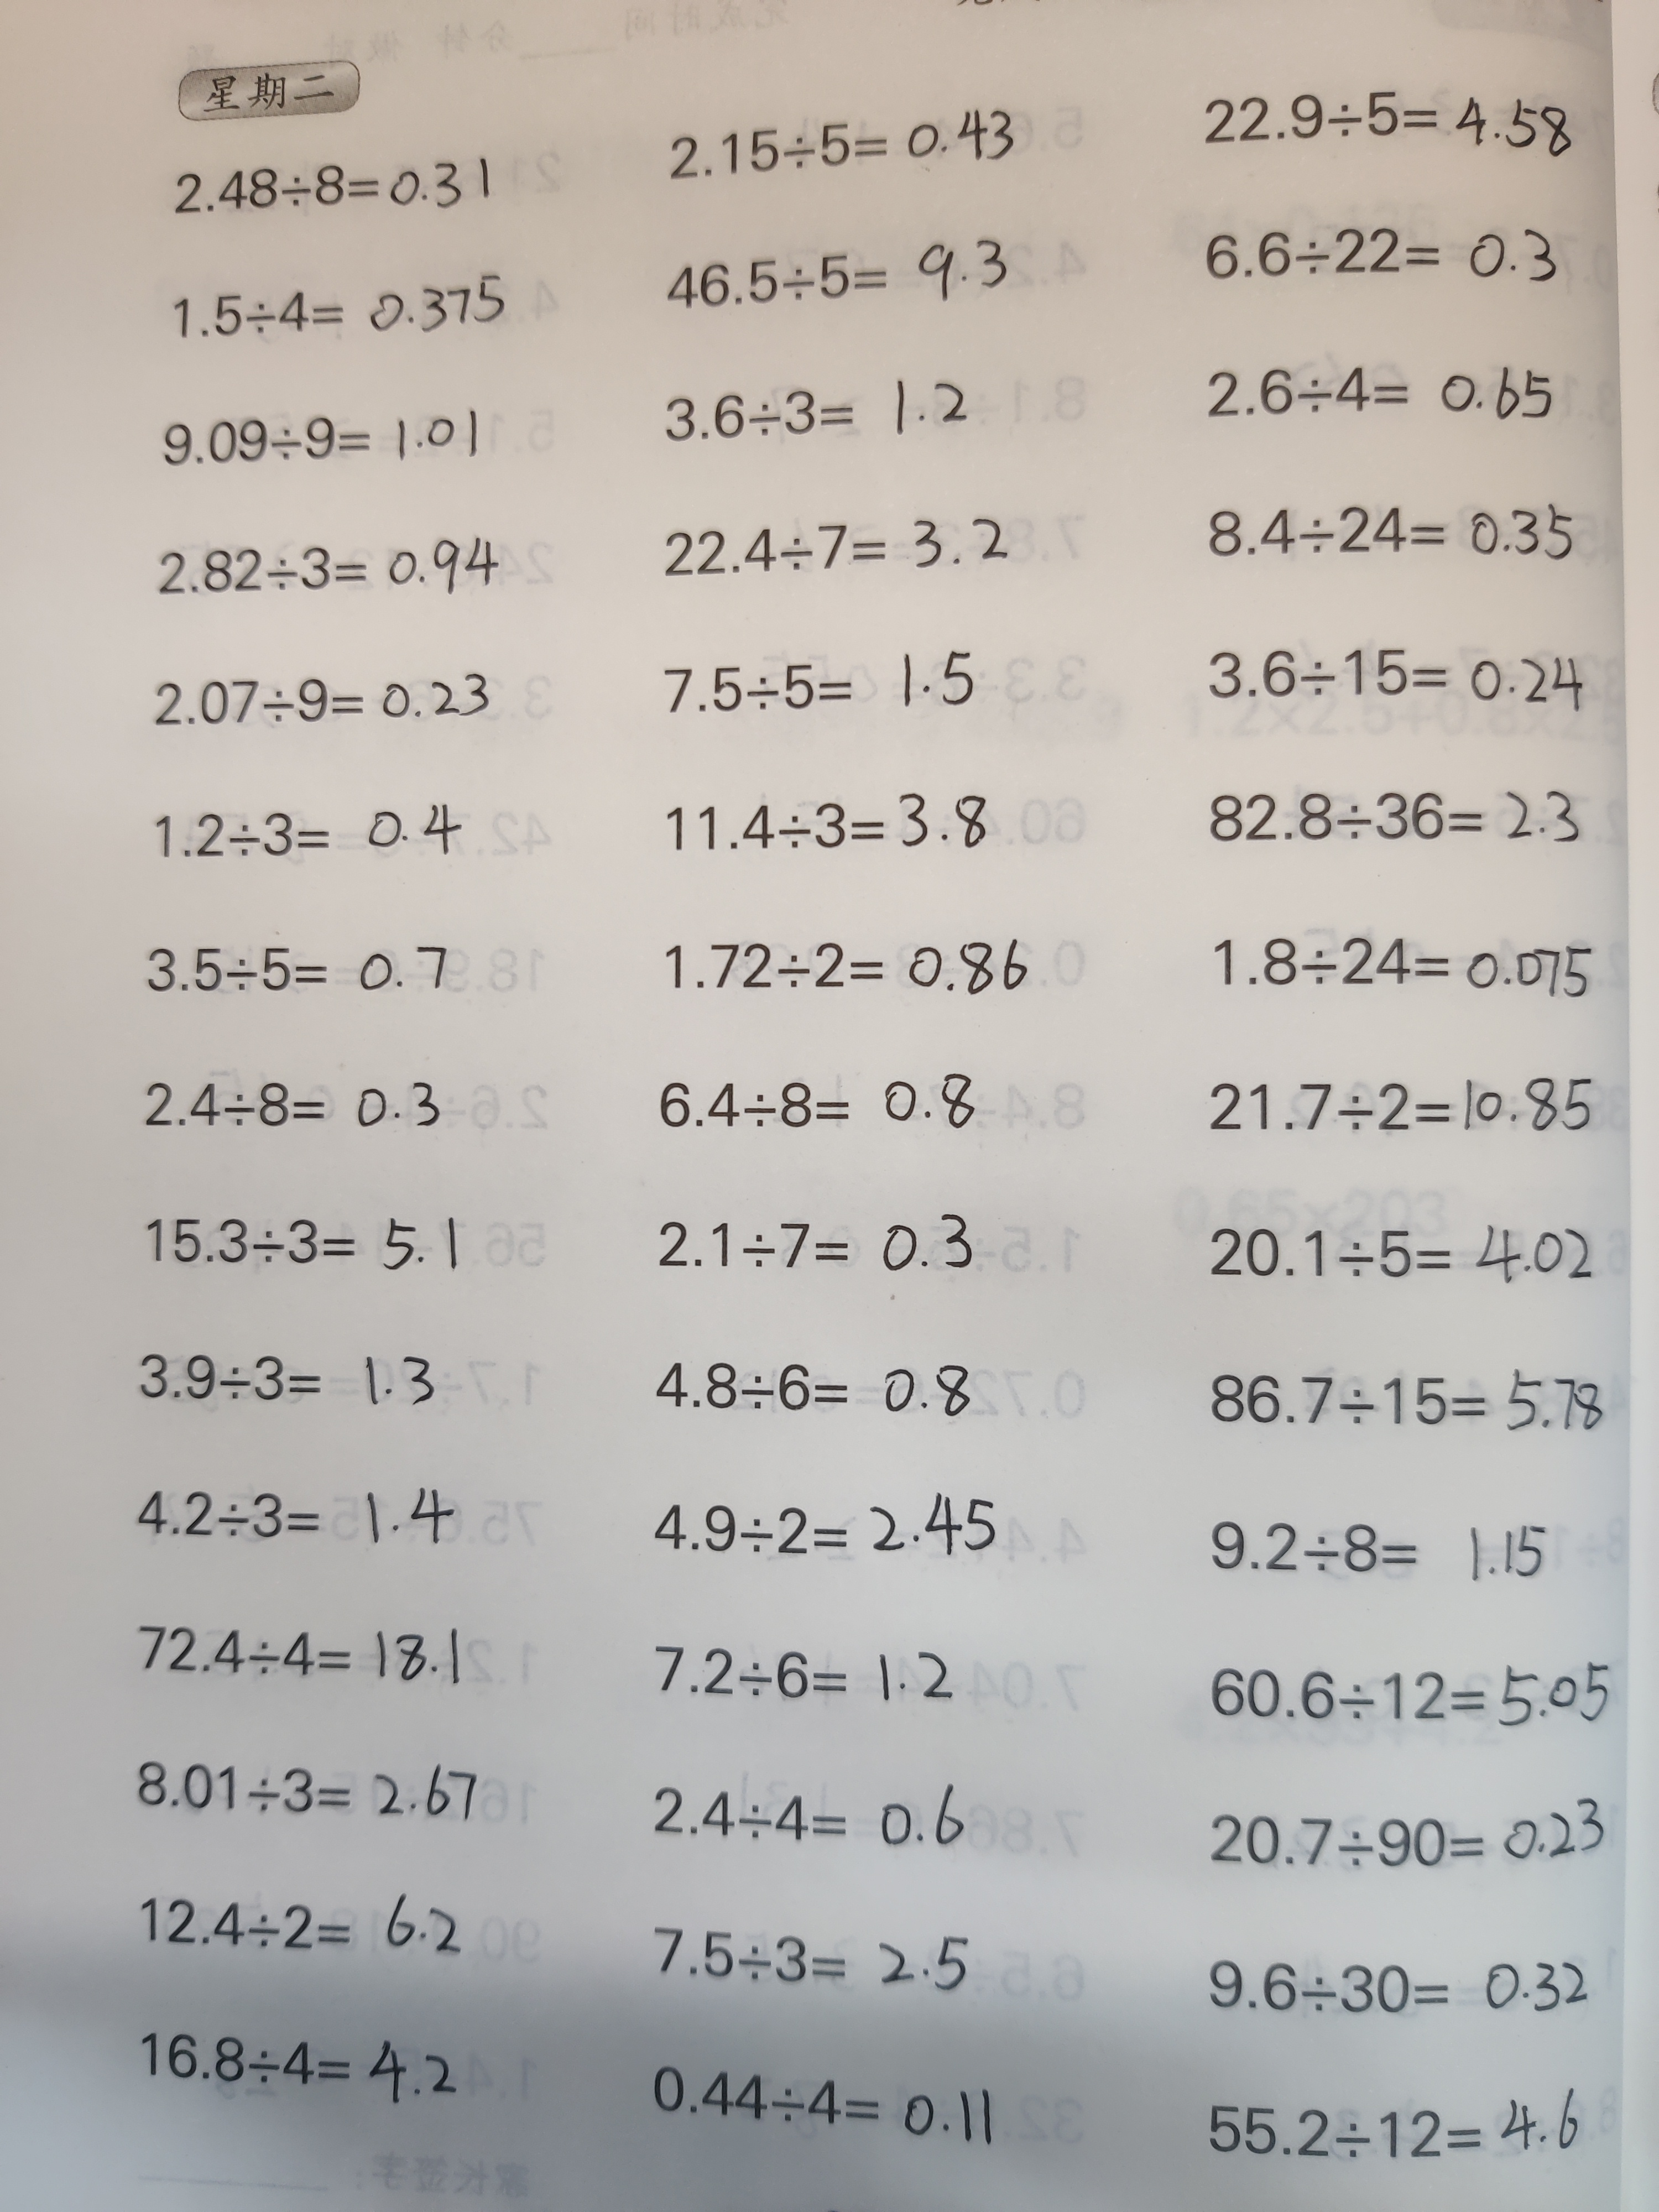equation: (1183, 1341, 1614, 1458), (1201, 2067, 1595, 2182), (1195, 1049, 1605, 1157), (1194, 1642, 1621, 1743), (1182, 1500, 1568, 1609), (1195, 1207, 1607, 1310), (120, 1461, 474, 1580), (640, 2048, 1009, 2161), (1206, 1787, 1612, 1888), (640, 1909, 997, 2022), (124, 1738, 502, 1844), (132, 1184, 472, 1301), (1183, 632, 1593, 728), (1182, 770, 1598, 864), (113, 1604, 472, 1712), (629, 1763, 986, 1871), (629, 1479, 1004, 1581), (1194, 71, 1588, 169), (1199, 1933, 1607, 2027), (131, 2012, 474, 2123), (1194, 488, 1586, 583), (640, 1054, 997, 1158), (655, 925, 1042, 1019), (131, 1876, 481, 1979), (1192, 347, 1567, 442), (124, 925, 465, 1029), (650, 1346, 1004, 1446), (1188, 925, 1600, 1010), (650, 1197, 997, 1298), (655, 362, 986, 467), (662, 226, 1016, 322), (1201, 214, 1574, 303), (162, 270, 530, 359), (148, 653, 516, 742), (652, 510, 1030, 596), (150, 526, 512, 615), (648, 643, 997, 735), (650, 777, 1004, 867), (643, 1625, 965, 1724), (652, 99, 1032, 183), (124, 1339, 455, 1433), (138, 791, 490, 878), (125, 1066, 471, 1155), (153, 404, 498, 475), (160, 145, 505, 214)
